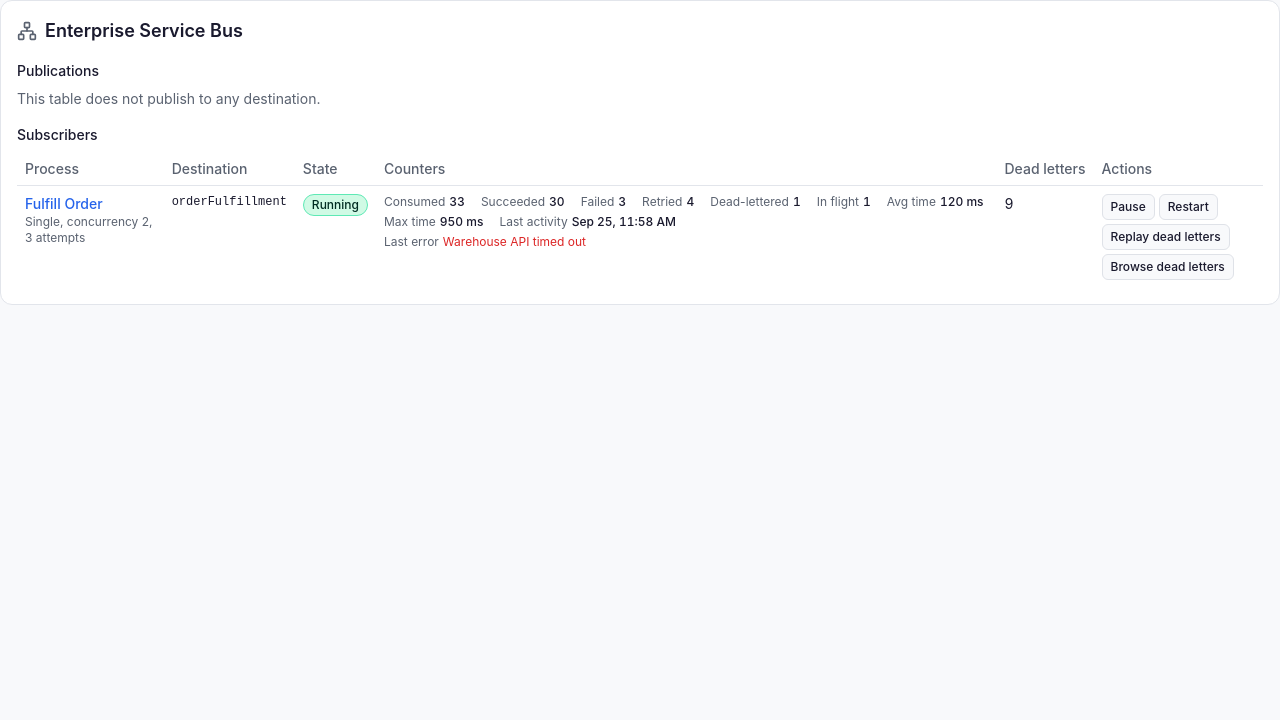
Test: EsbSection › uses deadLetter paused=null for broker queue controls
Click the button with aria-label "Browse dead letters for Fulfill Order" at (1168, 267), box 1102,254 -> 1234,280
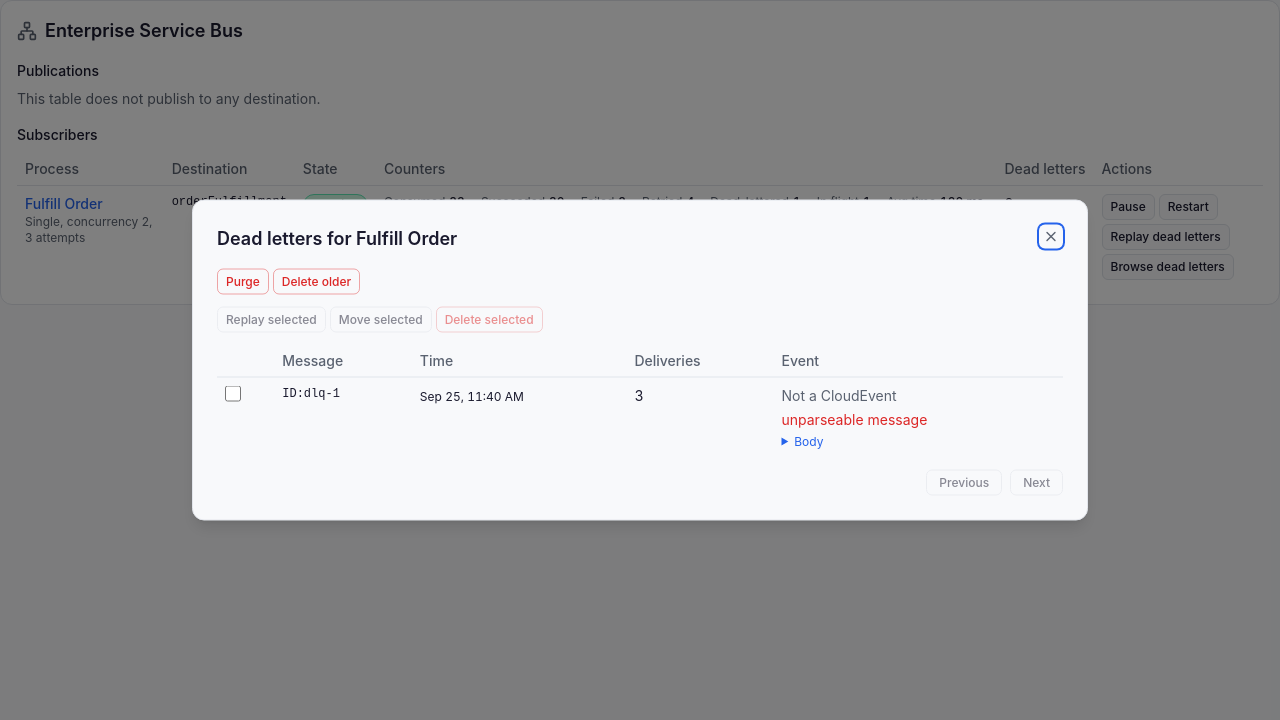
Expected: the dialog is shown, 192,200 -> 1088,520
